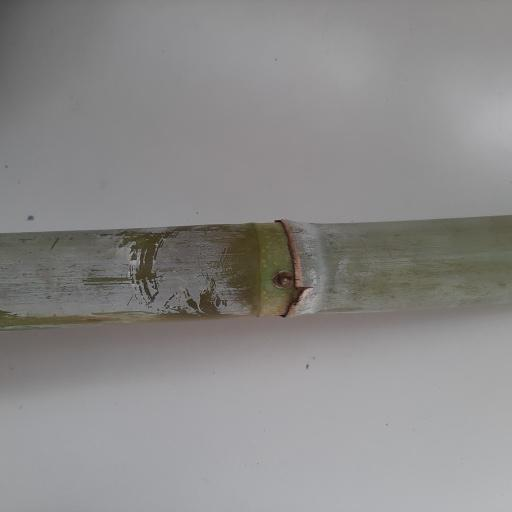Bud: (272, 272, 294, 291)
